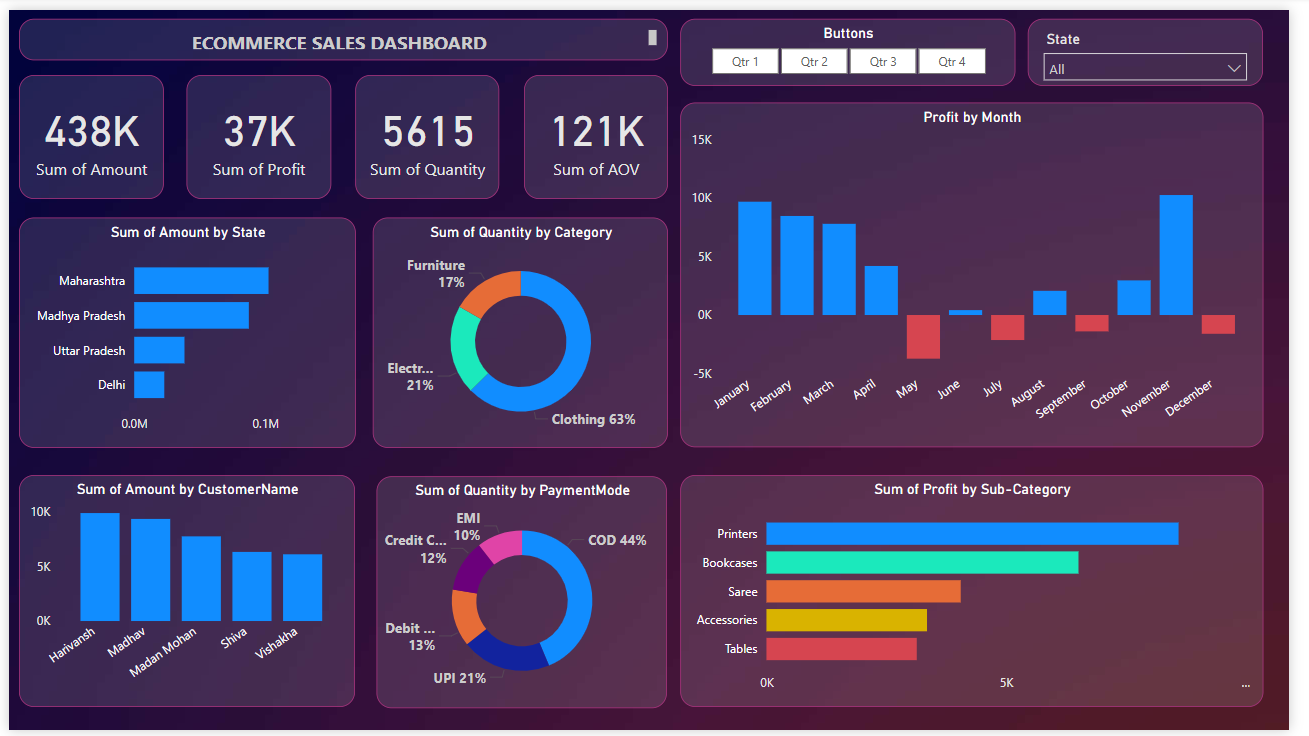

This screenshot's page, from the dashboard's own definition file:
{"tool":"powerbi","page":{"name":"Page 1","canvas":[1280,720],"ordinal":0},"visuals":[{"type":"columnChart","title":"Profit by Month","fields":{"Category":["Orders.Order Date.Variation.Date Hierarchy.Month"],"Y":["Details.Profit"]},"box":[670.9,92.3,582.9,344.8],"z":0},{"type":"barChart","fields":{"Category":["Details.Sub-Category"],"Y":["Details.Profit"]},"box":[670.9,464.6,582.9,232.3],"z":1000},{"type":"donutChart","fields":{"Category":["Details.Category"],"Y":["Details.Quantity"]},"box":[363.1,207.5,295.6,230.4],"z":2000},{"type":"donutChart","fields":{"Y":["Details.Quantity"],"Category":["Details.PaymentMode"]},"box":[368,465.7,290.8,231.6],"z":3000},{"type":"card","fields":{"Values":["Details.Amount"]},"box":[10,65,145,123.8],"z":4000},{"type":"card","fields":{"Values":["Details.Quantity"]},"box":[346.3,64.9,144.3,124.1],"z":5000},{"type":"card","fields":{"Values":["Details.Profit"]},"box":[177.5,65,145,123.8],"z":6000},{"type":"card","fields":{"Values":["Details.AOV"]},"box":[515.1,64.9,144.3,124.1],"z":7000},{"type":"barChart","fields":{"Category":["Orders.State"],"Y":["Details.Amount"]},"box":[9.7,207.5,336.6,230.4],"z":8000},{"type":"columnChart","fields":{"Category":["Orders.CustomerName"],"Y":["Details.Amount"]},"box":[10,465.1,335.6,231.8],"z":9000},{"type":"textbox","box":[10,8.8,648.8,41.2],"z":10000},{"type":"slicer","title":"Buttons","fields":{"Values":["Orders.Order Date.Variation.Date Hierarchy.Quarter"]},"box":[671.2,8.8,335,67.5],"z":11000},{"type":"slicer","fields":{"Values":["Orders.State"]},"box":[1018.8,8.8,235,67.5],"z":12000}]}

Visuals, with their boxes in screenshot pixels (x1, y1, x2, y2), scaled from the page's 1280x720 canvas onto the 1309x736 screenshot:
"Profit by Month" columnChart: crop(686, 94, 1282, 447)
barChart - Details.Sub-Category x Details.Profit: crop(686, 475, 1282, 712)
donutChart - Details.Category x Details.Quantity: crop(371, 212, 674, 448)
donutChart - Details.Quantity x Details.PaymentMode: crop(376, 476, 674, 713)
card - Details.Amount: crop(10, 66, 159, 193)
card - Details.Quantity: crop(354, 66, 502, 193)
card - Details.Profit: crop(182, 66, 330, 193)
card - Details.AOV: crop(527, 66, 674, 193)
barChart - Orders.State x Details.Amount: crop(10, 212, 354, 448)
columnChart - Orders.CustomerName x Details.Amount: crop(10, 475, 353, 712)
textbox: crop(10, 9, 674, 51)
"Buttons" slicer: crop(686, 9, 1029, 78)
slicer - Orders.State: crop(1042, 9, 1282, 78)
